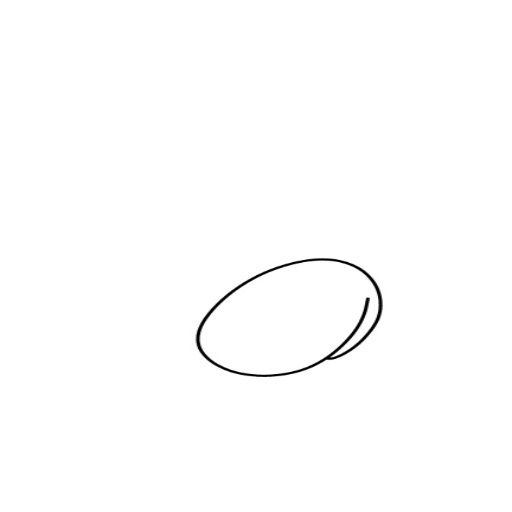circle: (190, 252, 388, 379)
